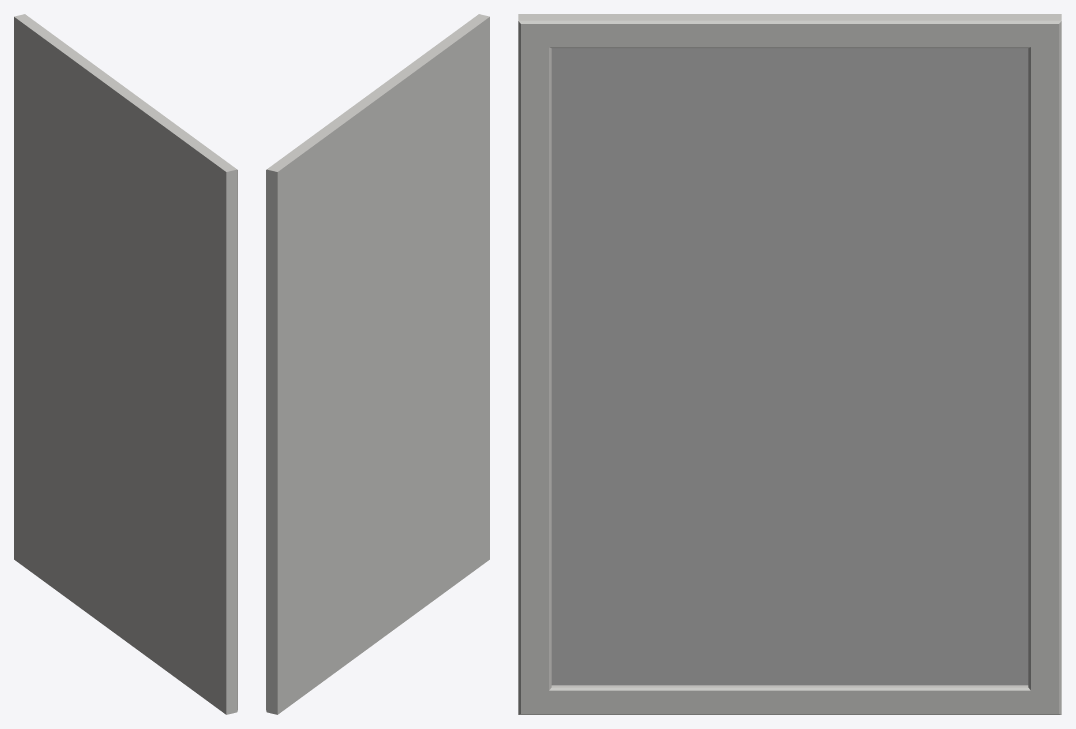
Rendered from Mirror 1.glb.
3 views of the same model, side by side, from view 1: azimuth 30°, elevation 25°; view 2: azimuth 150°, elevation 25°; view 3: azimuth 270°, elevation 25° (orthographic). The views are drawn at different scales.
Visible parts, largest first — view 1: Cube.030; view 2: Cube.030; view 3: Cube.030.
Part boxes in pixels (x1,y1,x2,y2): Cube.030: (14,14,237,714); Cube.030: (266,14,489,714); Cube.030: (518,14,1061,714).
Bounding box in the file's own units: 0.0164 × 0.6754 × 0.479.
Materials: 1 (1 with a texture image).
